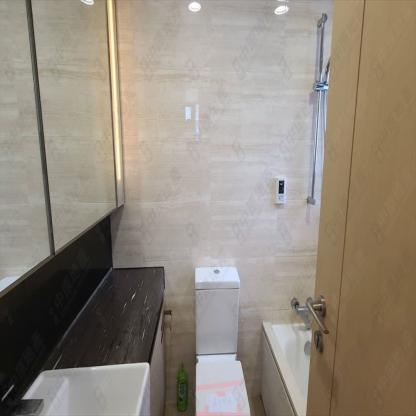Toilet: (194, 262, 250, 415)
Toilet Sink: (11, 362, 150, 415)
